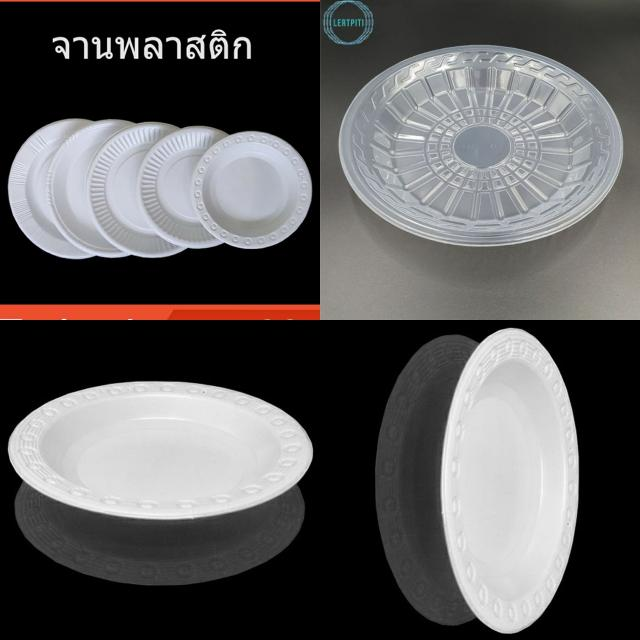Single-Use-Plastic: (339, 46, 622, 246), (9, 381, 312, 520), (441, 329, 579, 632), (192, 131, 311, 249), (88, 122, 182, 258), (48, 119, 132, 258), (9, 119, 92, 259), (138, 126, 226, 249)
